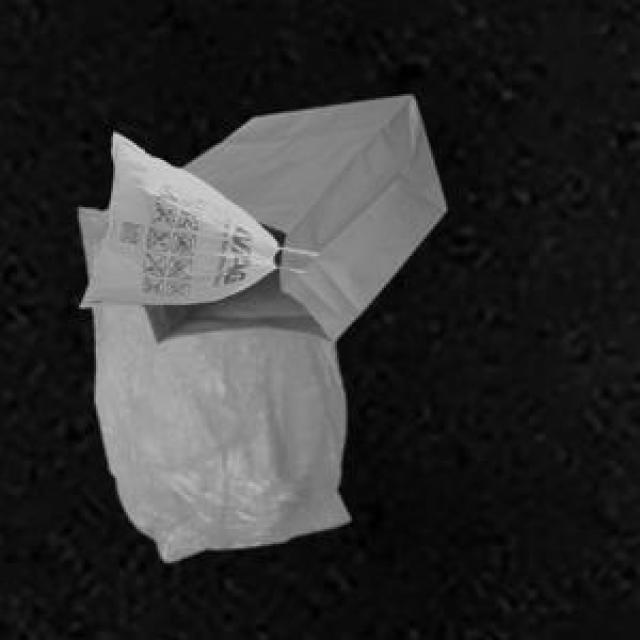paper: (141, 93, 442, 339)
